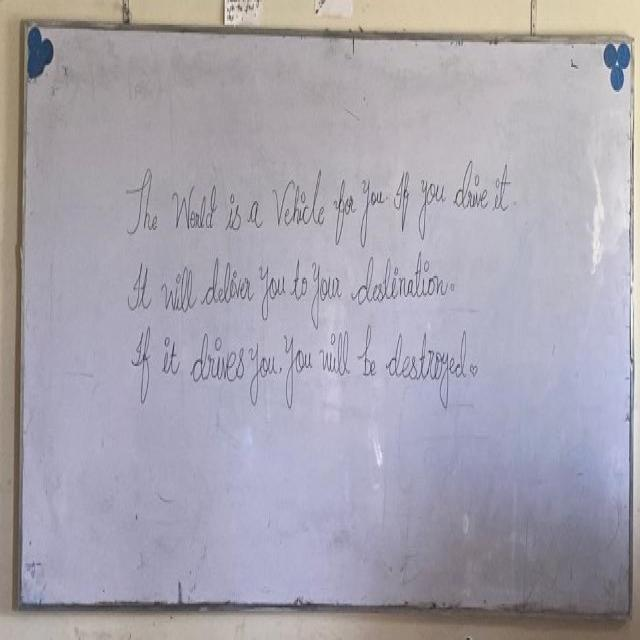White-board: (22, 26, 637, 618)
